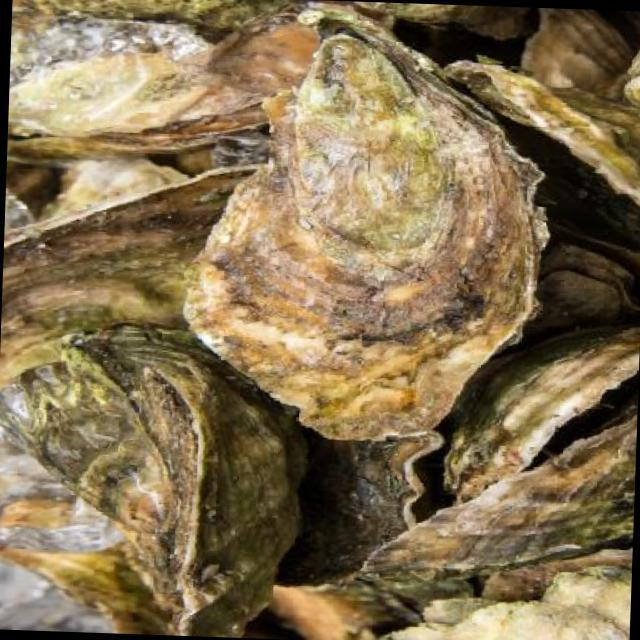Oyster- Indeterminate: (183, 36, 537, 430), (79, 316, 308, 640), (320, 412, 640, 613), (0, 15, 373, 146), (0, 161, 220, 347), (0, 337, 208, 529), (421, 324, 640, 468), (450, 58, 640, 222), (297, 419, 416, 578), (510, 4, 640, 114), (524, 227, 640, 333), (37, 151, 187, 203), (0, 0, 321, 22), (354, 0, 547, 30)
